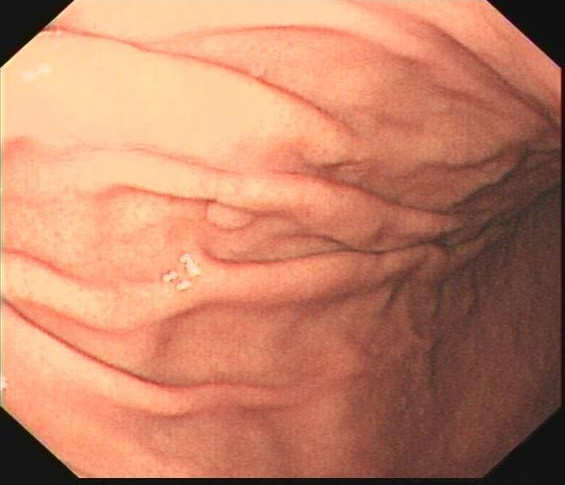Polyp: (188, 176, 286, 244)
